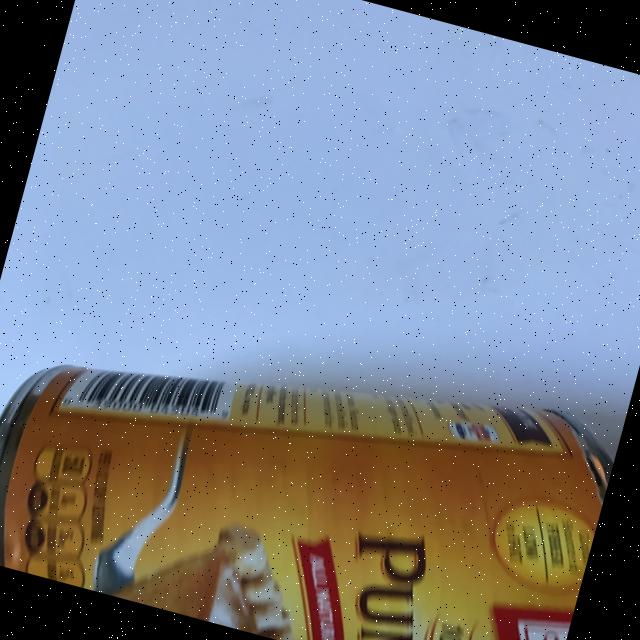metal: (0, 267, 622, 640)
